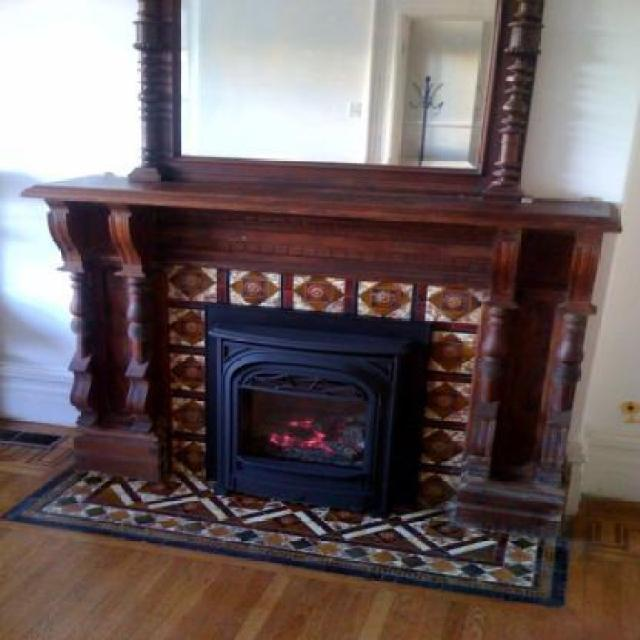Fire: (272, 420, 330, 451)
